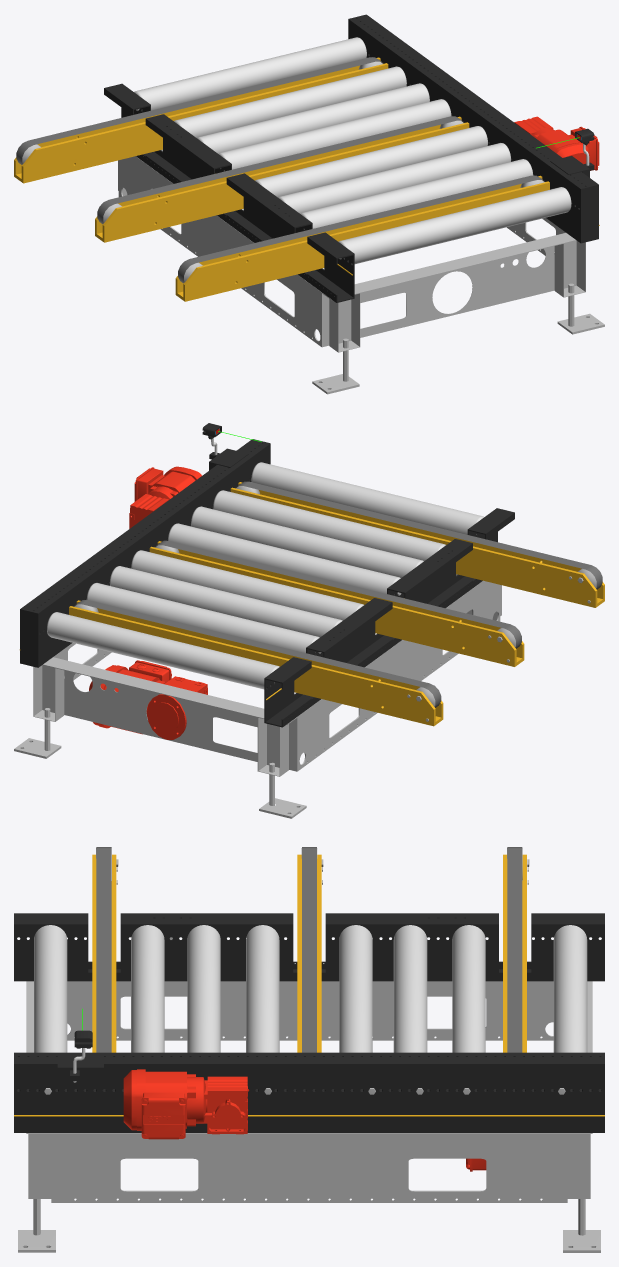
The model's file is realvirtual_chain_transfer_right.glb.
3 renders of one model, top to bottom at view 1: azimuth 30°, elevation 25°; view 2: azimuth 150°, elevation 25°; view 3: azimuth 270°, elevation 25°, orthographic. The views are drawn at different scales.
Visible parts, largest first — view 1: Transport-Z, Base, Drive-Lin-Y, Transport-X, DriveMesh, Light; view 2: Transport-Z, Base, Drive-Lin-Y, Transport-X, DriveMesh (×2), Light; view 3: Base, Transport-Z, Transport-X, DriveMesh, Drive-Lin-Y, Light.
Part boxes in pixels (bbox=[...]): Transport-Z: bbox=[134, 37, 571, 264]; Base: bbox=[104, 14, 604, 394]; Drive-Lin-Y: bbox=[14, 57, 549, 301]; Transport-X: bbox=[16, 57, 544, 283]; DriveMesh: bbox=[514, 116, 599, 170]; Light: bbox=[550, 128, 594, 177]; Transport-Z: bbox=[47, 462, 484, 689]; Base: bbox=[14, 439, 514, 818]; Drive-Lin-Y: bbox=[69, 482, 604, 726]; Transport-X: bbox=[74, 481, 602, 707]; DriveMesh (×2): bbox=[89, 466, 207, 739]; Light: bbox=[202, 423, 248, 470]; Base: bbox=[14, 913, 604, 1252]; Transport-Z: bbox=[34, 925, 587, 1052]; Transport-X: bbox=[96, 847, 522, 1052]; DriveMesh: bbox=[123, 1069, 249, 1139]; Drive-Lin-Y: bbox=[92, 848, 529, 1052]; Light: bbox=[57, 1030, 103, 1082].
Size of the model in its own units: 1.67 by 0.6412 by 1.55.
